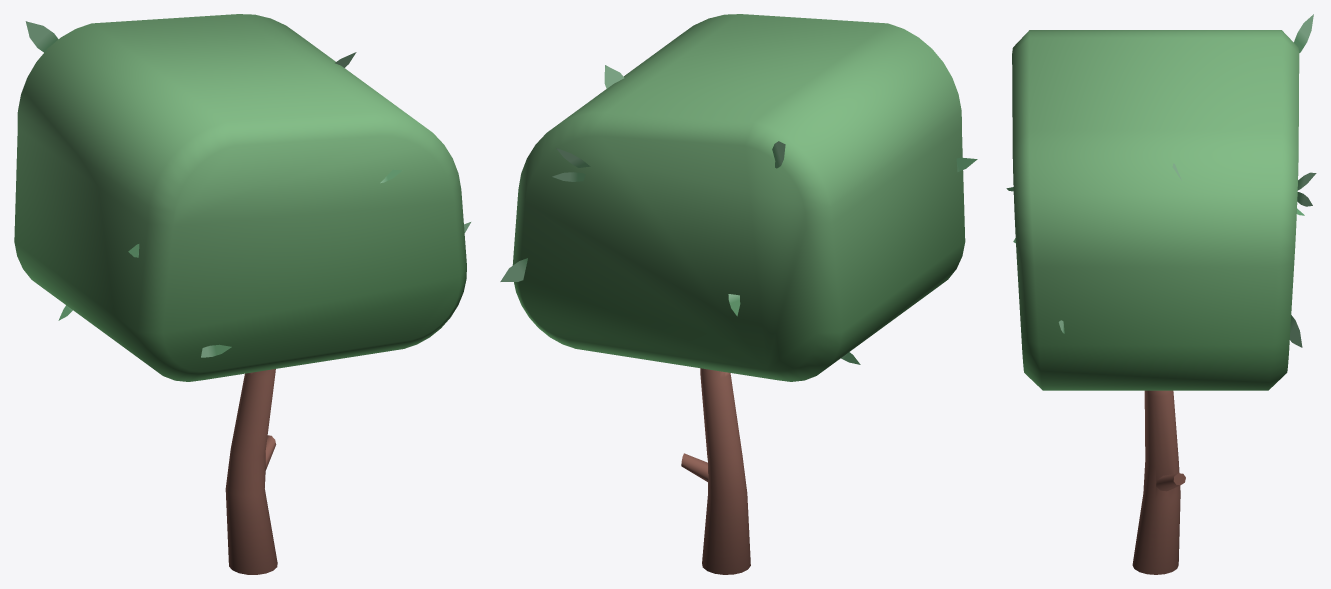
The model's file is SM_Tree.fbx.
The picture shows the model from 3 angles, left to right: view 1: azimuth 30°, elevation 25°; view 2: azimuth 150°, elevation 25°; view 3: azimuth 270°, elevation 25°; orthographic projection. The views are drawn at different scales.
Parts seen in each view (by area): view 1: SM_Tree; view 2: SM_Tree; view 3: SM_Tree.
Boxes of the visible parts, <box> form: SM_Tree: <box>14,14,470,574</box>; SM_Tree: <box>500,14,977,574</box>; SM_Tree: <box>1006,14,1316,574</box>.
Size of the model in its own units: 478 by 667 by 385.
